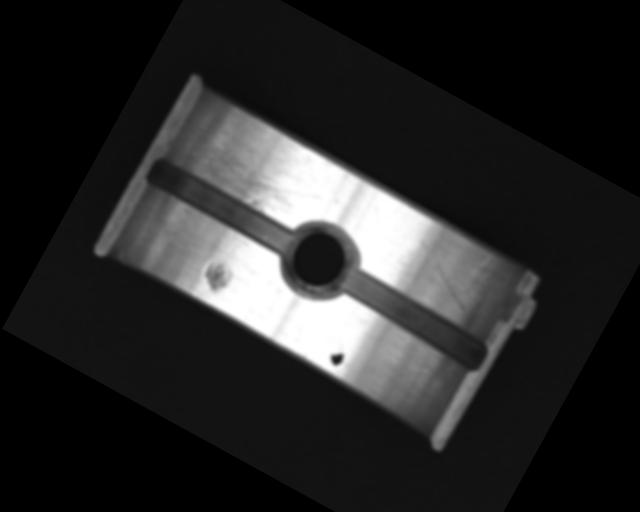blot: (326, 344, 348, 368)
bruise: (199, 257, 238, 296)
gap: (333, 264, 496, 376), (141, 151, 302, 262)
hole: (267, 209, 369, 313)
nick: (399, 237, 488, 315)
scratch: (169, 106, 334, 236)
